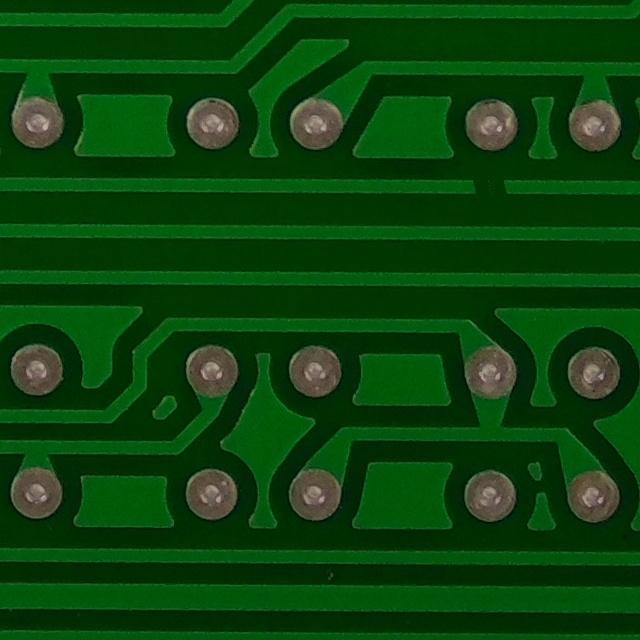open_circuit: (455, 164, 522, 210)
